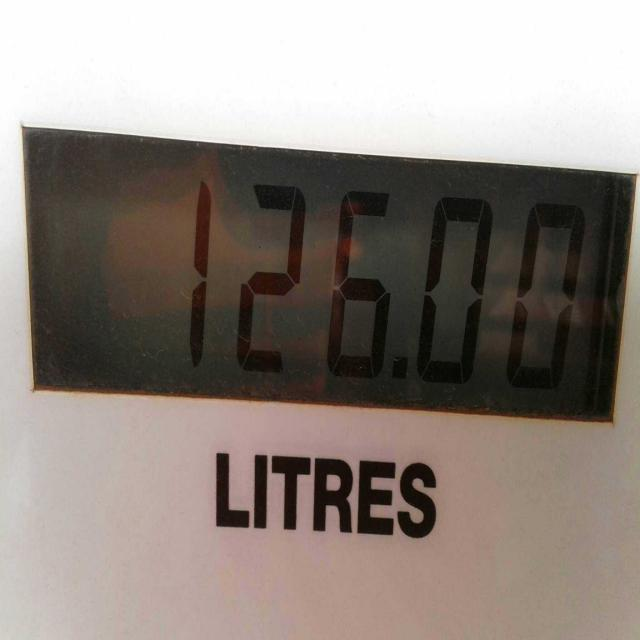.: (389, 347, 408, 384)
0: (419, 196, 494, 384), (512, 200, 580, 388)
1: (181, 174, 224, 364)
2: (239, 180, 305, 378)
6: (330, 192, 391, 377)
screen: (15, 124, 631, 424)
